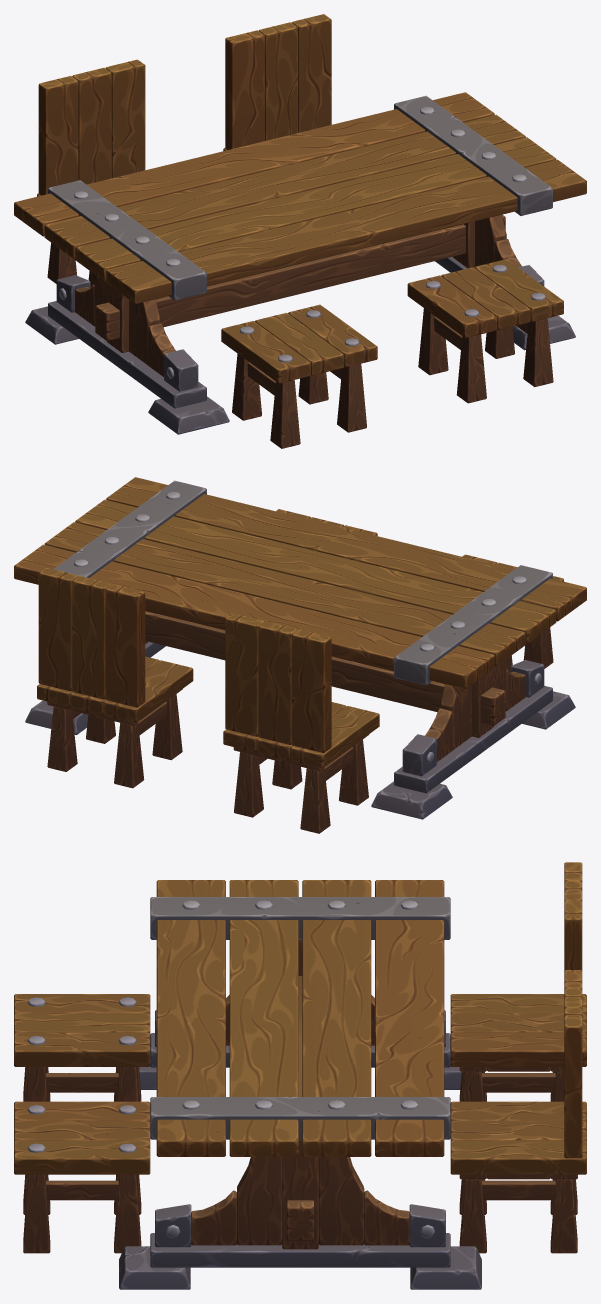
Rendered from TableSet.glb.
3 views of the same model, one above another, from view 1: azimuth 30°, elevation 25°; view 2: azimuth 150°, elevation 25°; view 3: azimuth 270°, elevation 25° (orthographic). The views are drawn at different scales.
Visible parts, largest first — view 1: SM_Dining_Table_; view 2: SM_Dining_Table_; view 3: SM_Dining_Table_.
Boxes of the visible parts, box(x1,y1,x2,y2) form: SM_Dining_Table_: box(14, 14, 586, 448); SM_Dining_Table_: box(14, 477, 586, 833); SM_Dining_Table_: box(14, 862, 586, 1289).
Size of the model in its own units: 3.4 by 1.4 by 3.15.
Materials: 1 (1 with a texture image).
